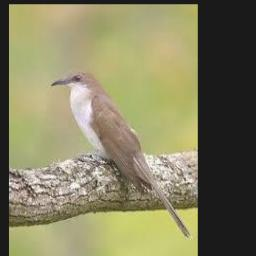Cuckoo: (51, 69, 193, 240)
